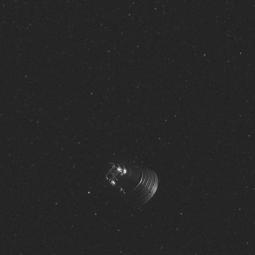debris: (95, 150, 161, 208)
